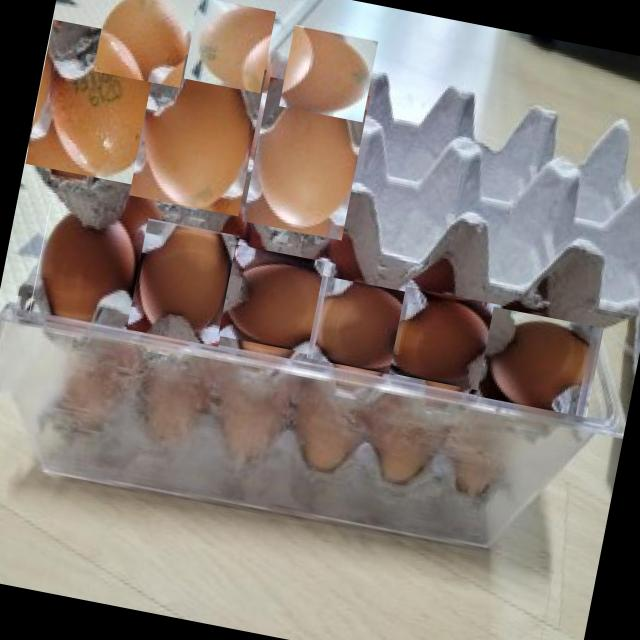eggs: (24, 18, 172, 187), (128, 49, 268, 218), (242, 76, 370, 242), (29, 204, 150, 332), (126, 218, 240, 348), (480, 302, 600, 422), (220, 242, 334, 358), (390, 284, 499, 394), (309, 273, 418, 382), (279, 24, 378, 124), (93, 0, 196, 88), (182, 0, 277, 92)
